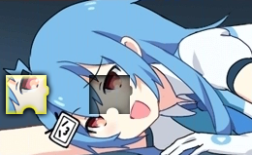gap: (89, 74, 132, 114)
